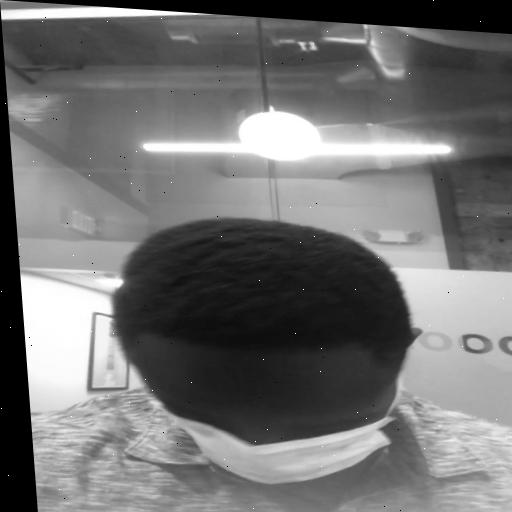mask: (117, 314, 425, 492)
